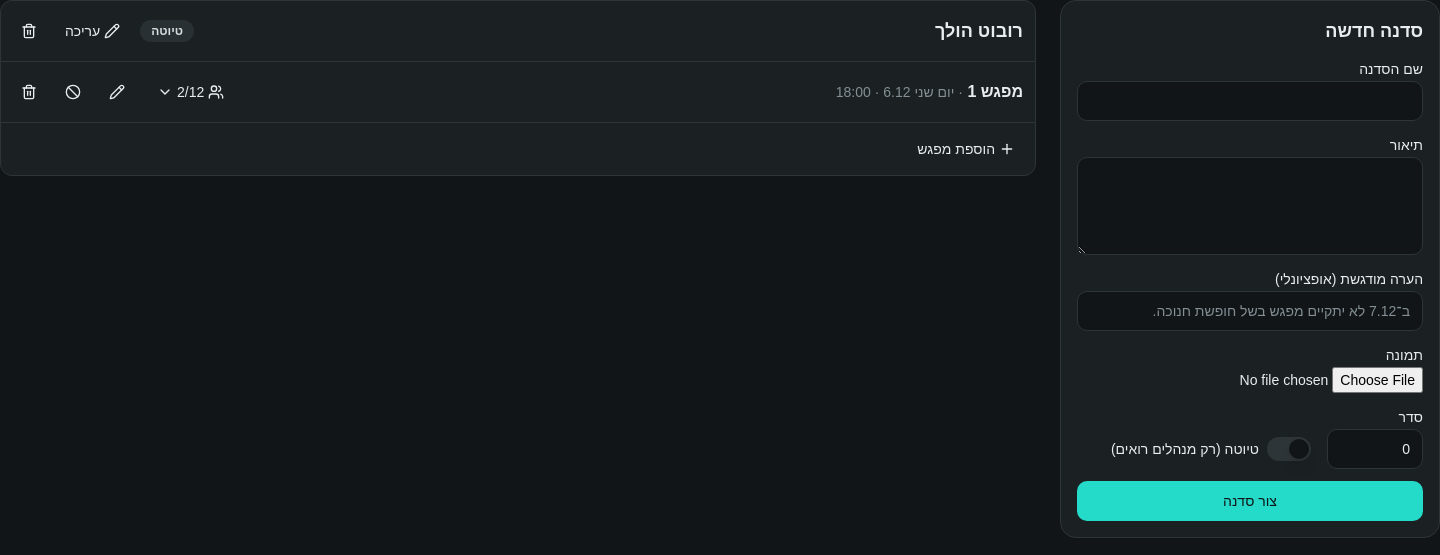
WorkshopsManager › lists workshops with draft status, meetings in Israel time, and registrants on demand
Check: the heading "סדנה חדשה" is shown, box [1325, 21, 1423, 41]
Check: the text "טיוטה" is shown, box [140, 20, 194, 42]
Click the button "2/12" at (191, 92), box [145, 74, 236, 110]
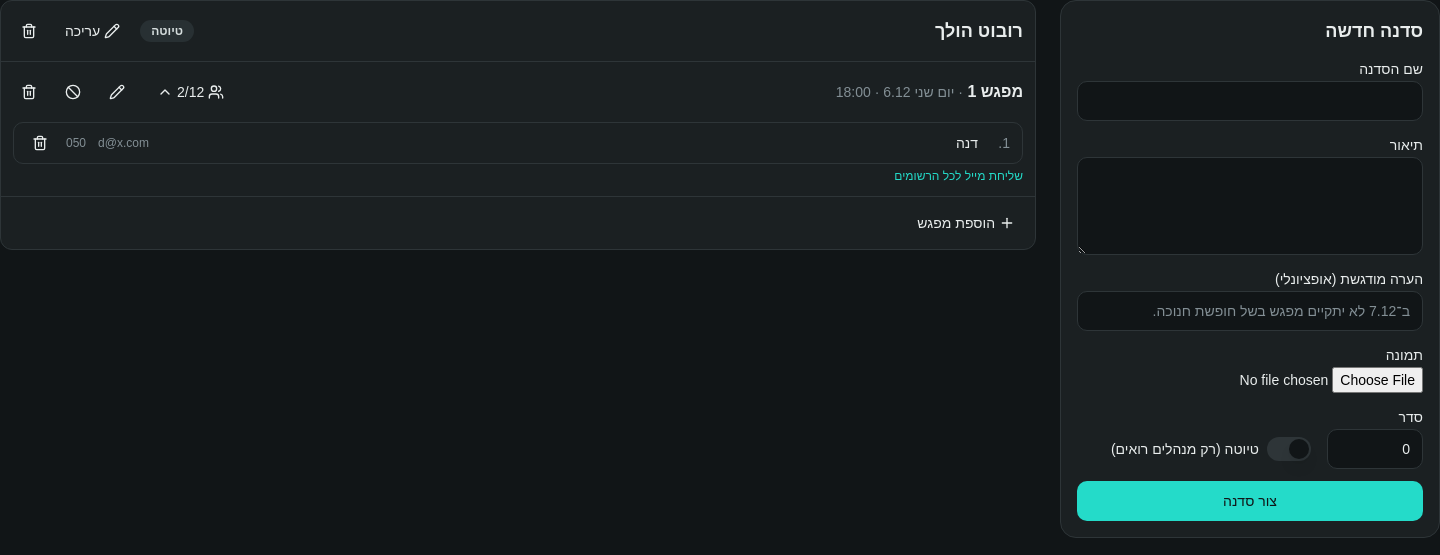
Check: the text "דנה" is shown, box [956, 135, 978, 151]
